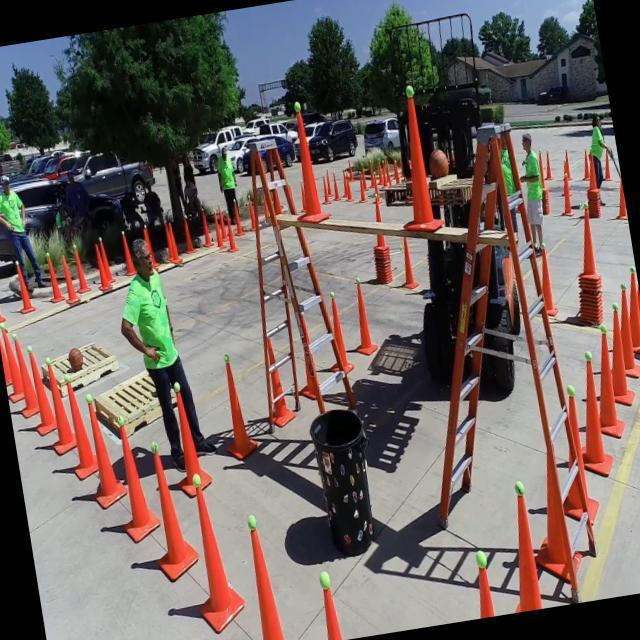person: (113, 228, 200, 432), (0, 176, 38, 279), (516, 131, 547, 248), (214, 139, 239, 204), (587, 116, 610, 176)
